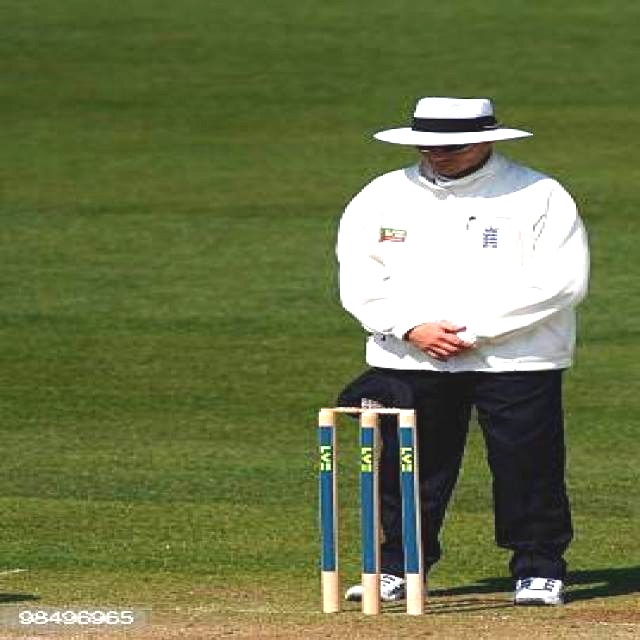No_Action: (322, 83, 599, 615)
